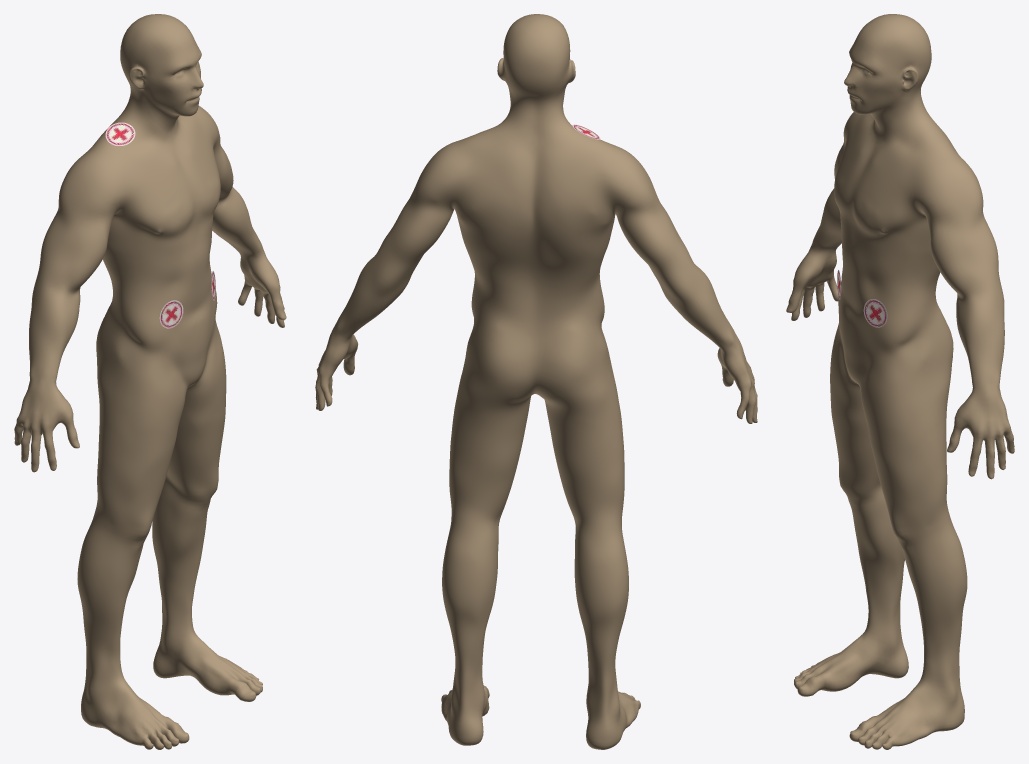
The picture shows the model from 3 angles, left to right: view 1: azimuth 30°, elevation 25°; view 2: azimuth 150°, elevation 25°; view 3: azimuth 270°, elevation 25°; orthographic projection. The views are drawn at different scales.
Parts seen in each view (by area): view 1: Group1, Electrods Missing White, Electrods Missing Green; view 2: Group1; view 3: Group1, Electrods Missing Red.
Boxes of the visible parts, x1,y1,x2,y2 form: Group1: [14, 14, 286, 749]; Electrods Missing White: [105, 122, 135, 145]; Electrods Missing Green: [159, 300, 183, 328]; Group1: [315, 14, 757, 749]; Group1: [786, 14, 1014, 749]; Electrods Missing Red: [863, 299, 887, 327].
Size of the model in its own units: 10.7 by 20.74 by 6.23.
Materials: 10 (6 with a texture image).
